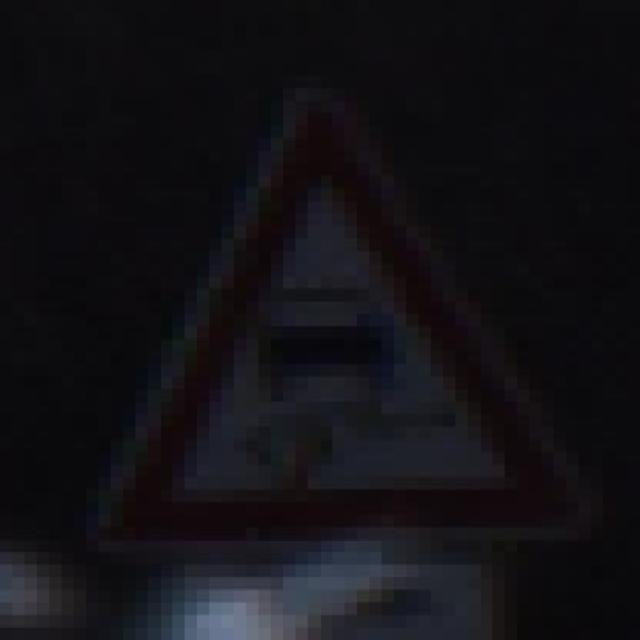Slippery Road Ahead: (62, 88, 616, 552)
